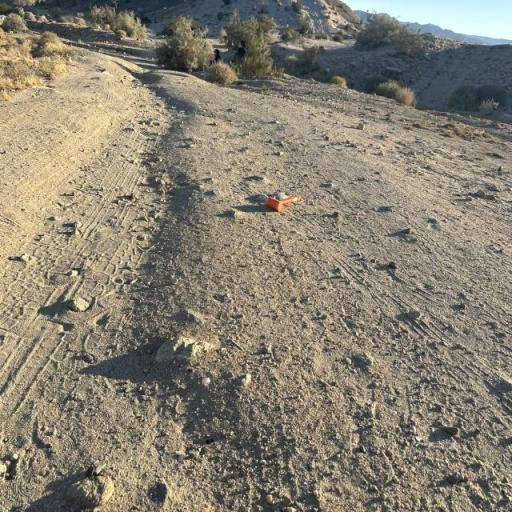mallet: (262, 181, 305, 219)
